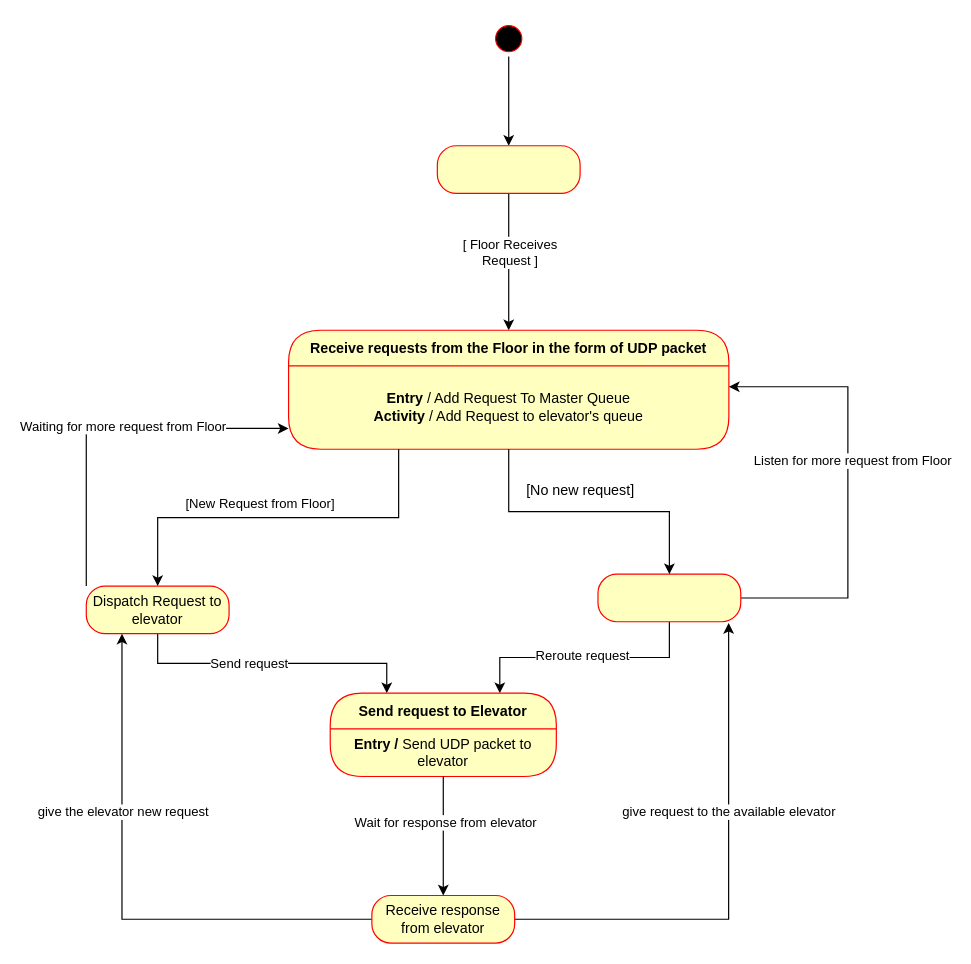
This 971x964 diagram has some shape labels left out. Each missing label, with the centre of its shape:
"Handle Request to elevator" belongs at pixel 669 597.
"Scheduler Thread Start" belongs at pixel 508 169.
